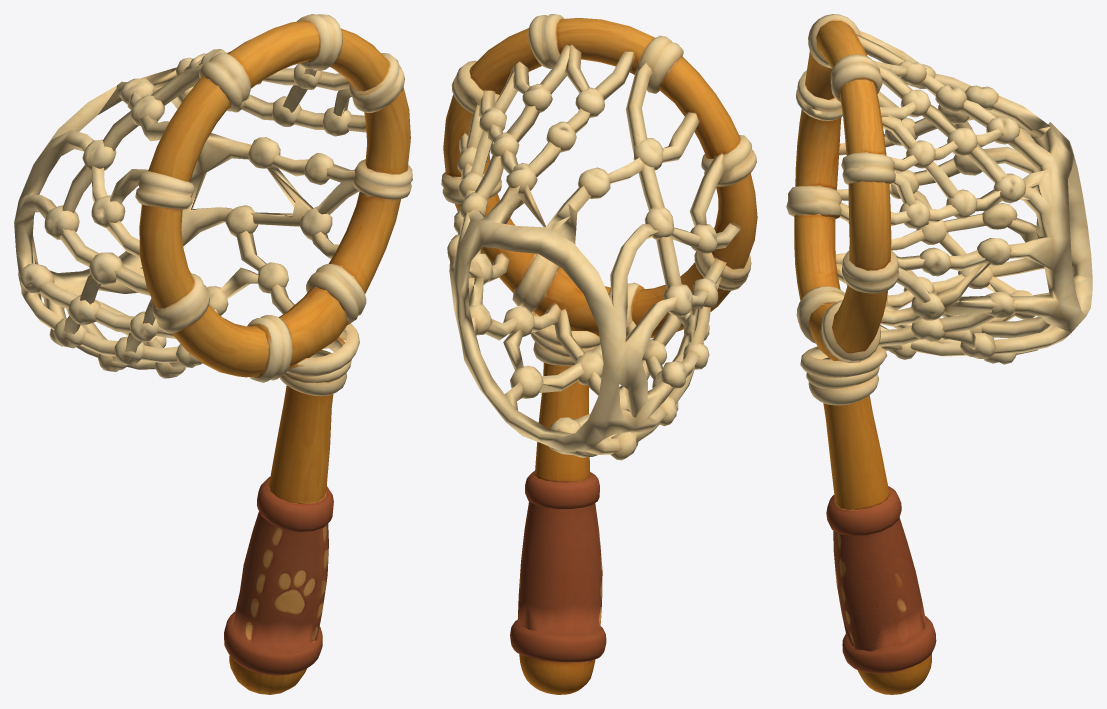
The model's file is T05_net.fbx.
3 renders of one model, left to right at view 1: azimuth 30°, elevation 25°; view 2: azimuth 150°, elevation 25°; view 3: azimuth 270°, elevation 25°, orthographic. The views are drawn at different scales.
Parts seen in each view (by area): view 1: tripo_node_5b8b065f; view 2: tripo_node_5b8b065f; view 3: tripo_node_5b8b065f.
Part boxes in pixels (x1,y1,x2,y2): tripo_node_5b8b065f: [14, 14, 412, 694]; tripo_node_5b8b065f: [441, 14, 757, 694]; tripo_node_5b8b065f: [786, 14, 1092, 694].
Bounding box in the file's own units: 0.695 × 1.42 × 0.6096.
